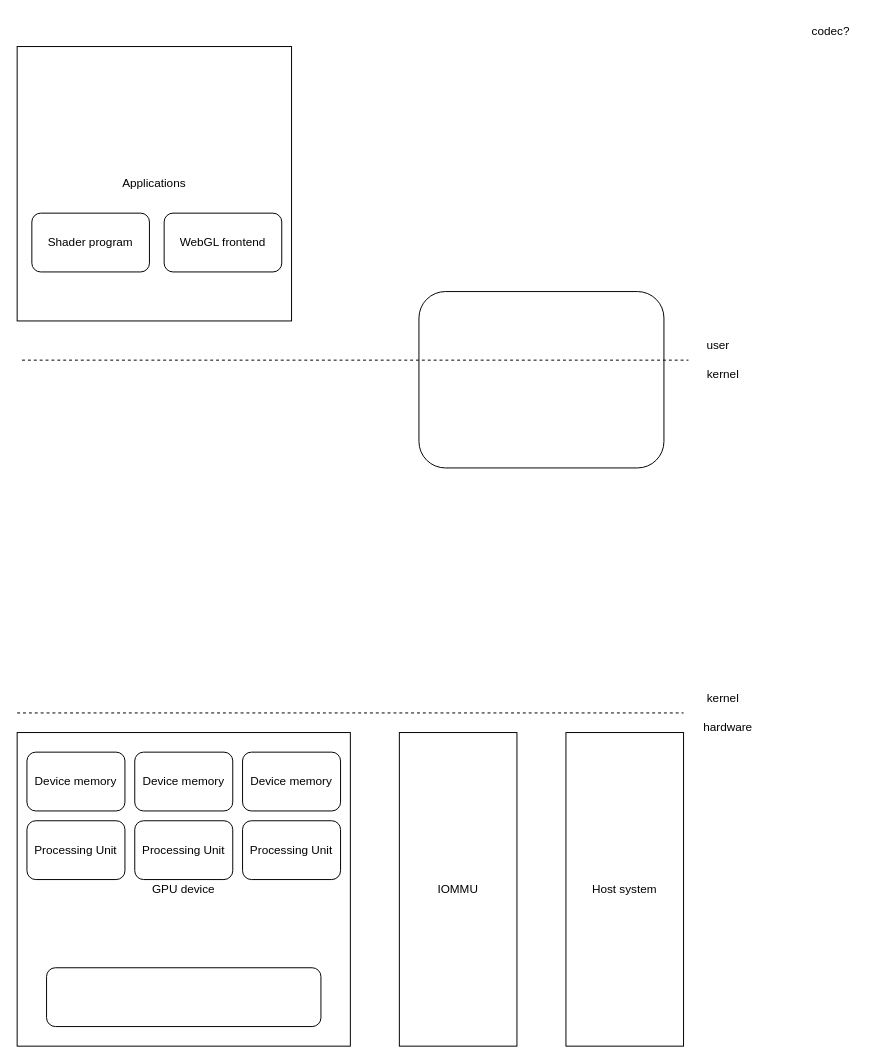
This 877x1063 diagram has some shape labels left out. Here are the shapes that lost their labels. From the top down, the centre of each, then its label:
pixel 541 379: GPU Driver
pixel 183 997: Global memory
